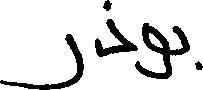X: (0, 29, 82, 89), (97, 0, 135, 71), (142, 18, 167, 83), (173, 21, 202, 74)
